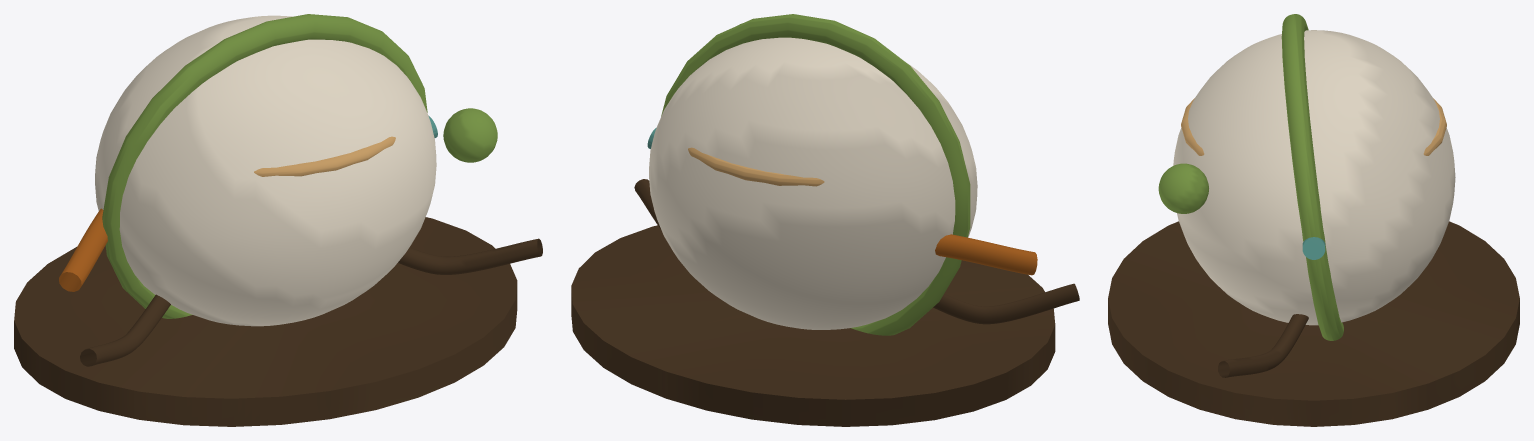
The model's file is 1212_细胞图鉴_核孔.glb.
3 renders of one model, left to right at view 1: azimuth 30°, elevation 25°; view 2: azimuth 150°, elevation 25°; view 3: azimuth 270°, elevation 25°, orthographic. The views are drawn at different scales.
Visible parts, largest first — view 1: card_1212; view 2: card_1212; view 3: card_1212.
Boxes of the visible parts, x1,y1,x2,y2 form: card_1212: [14, 14, 542, 426]; card_1212: [571, 14, 1079, 426]; card_1212: [1108, 14, 1519, 426].
Size of the model in its own units: 1.51 by 1 by 1.25.
